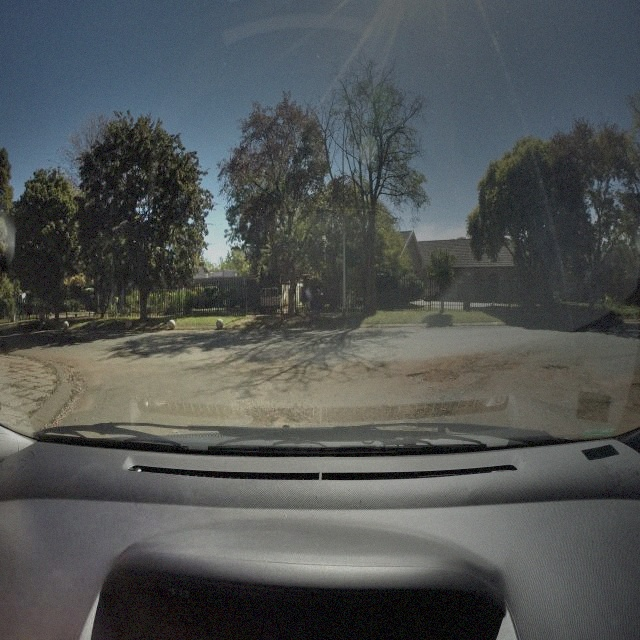pothole: (405, 365, 461, 385), (576, 395, 616, 414), (542, 363, 570, 374), (631, 380, 639, 392)
